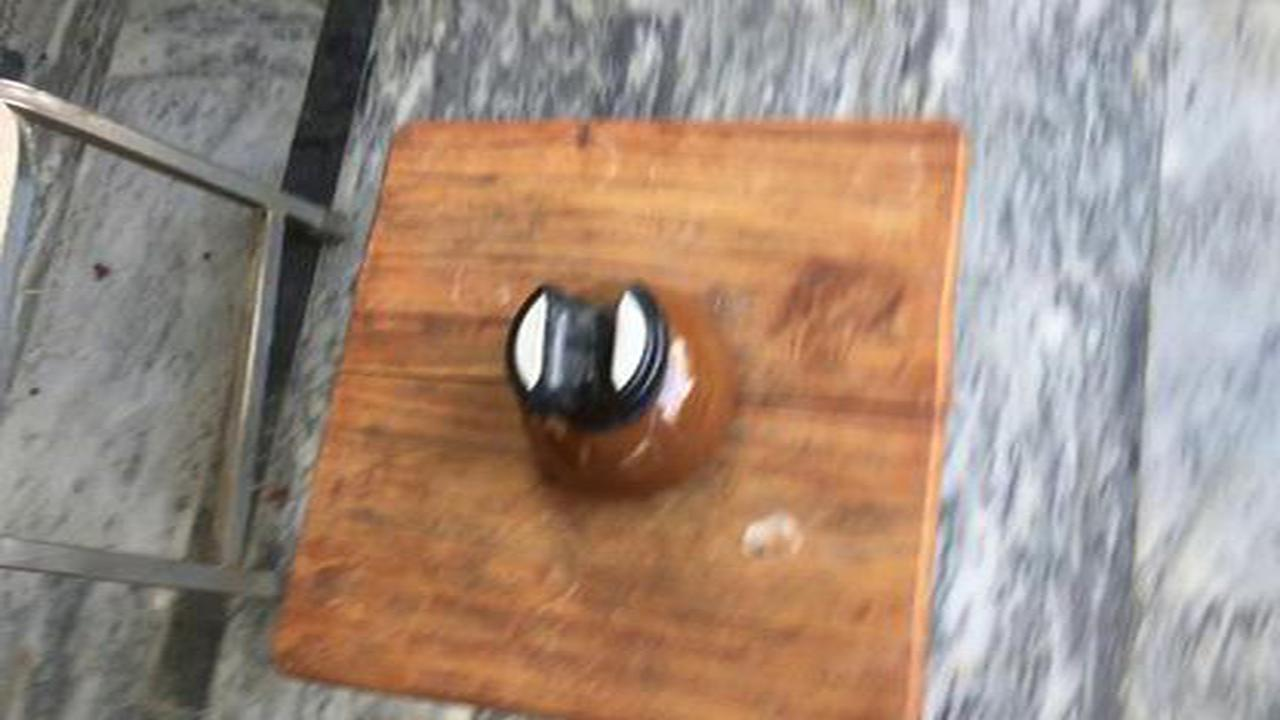insulator_pin: (465, 262, 761, 521)
